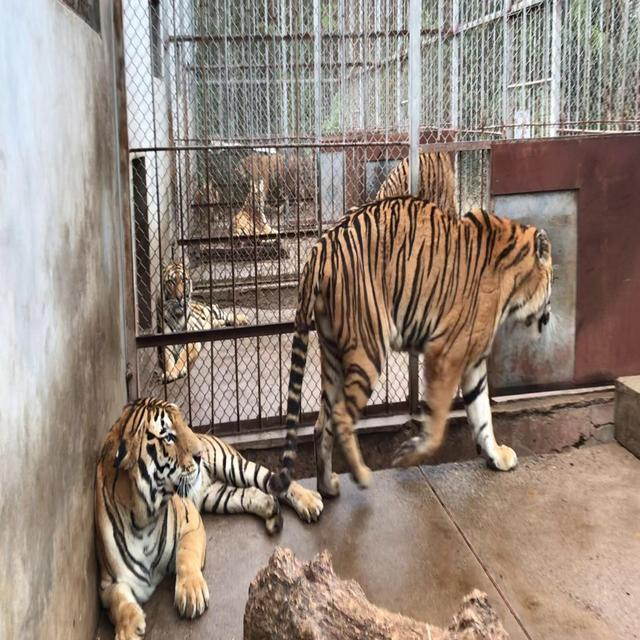tiger: (274, 148, 554, 500), (92, 394, 324, 639), (241, 545, 511, 639), (152, 260, 250, 382), (228, 150, 318, 236)
